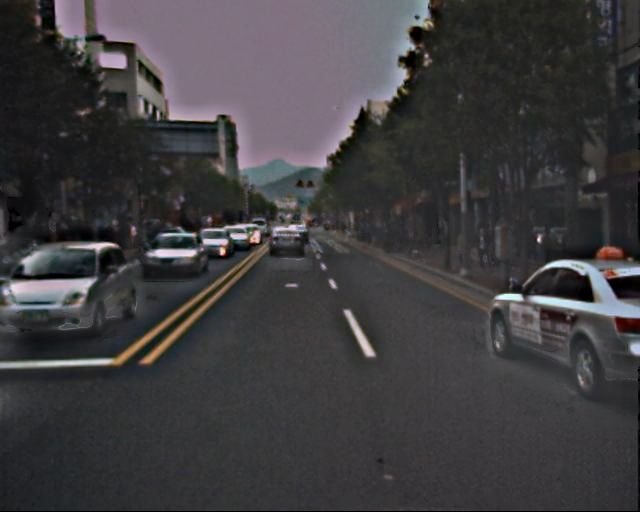person: (474, 220, 494, 268), (525, 222, 540, 259), (541, 226, 556, 262)
